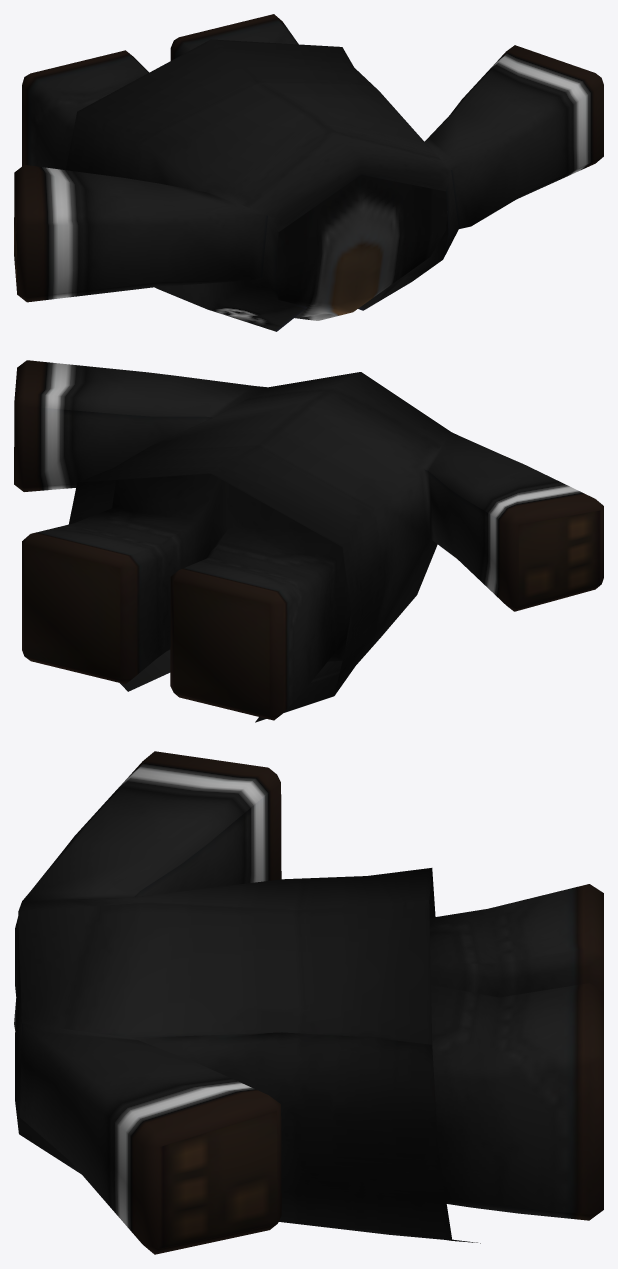
Rendered from Avatar_Cowboy_H_Body_1_73608bf1__Avatar_Cowboy_C_5edd63eb_c1f257.obj.
3 renders of one model, top to bottom at view 1: azimuth 30°, elevation 25°; view 2: azimuth 150°, elevation 25°; view 3: azimuth 270°, elevation 25°, orthographic. The views are drawn at different scales.
Bounding box in the file's own units: 1.36 × 0.4887 × 0.8693.
Materials: 1 (1 with a texture image).
